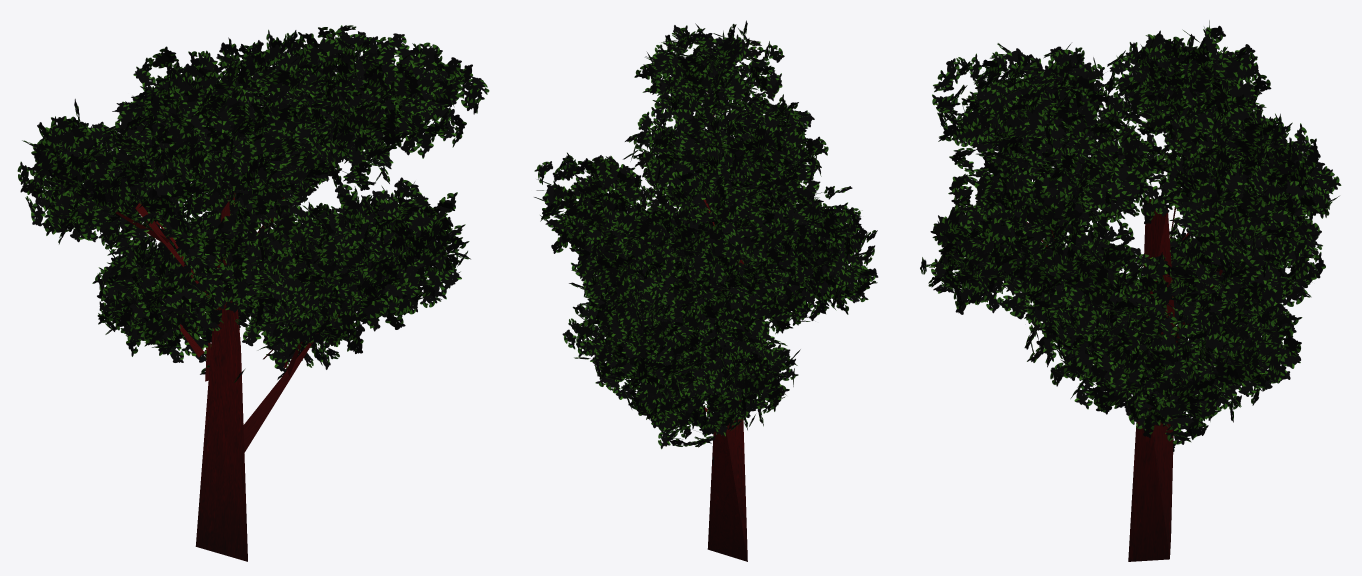
The model's file is broadleaf_giant_v01_LOD1.glb.
3 renders of one model, left to right at view 1: azimuth 30°, elevation 25°; view 2: azimuth 150°, elevation 25°; view 3: azimuth 270°, elevation 25°, orthographic. The views are drawn at different scales.
Visible parts, largest first — view 1: broadleaf_giant_v01_LOD1; view 2: broadleaf_giant_v01_LOD1; view 3: broadleaf_giant_v01_LOD1.
Part boxes in pixels (left/top/right/bottom): broadleaf_giant_v01_LOD1: left=17, top=25, right=489, bottom=561; broadleaf_giant_v01_LOD1: left=534, top=20, right=878, bottom=561; broadleaf_giant_v01_LOD1: left=920, top=20, right=1341, bottom=561.
Size of the model in its own units: 25.18 by 32.2 by 22.62.
Materials: 2 (2 with a texture image).
